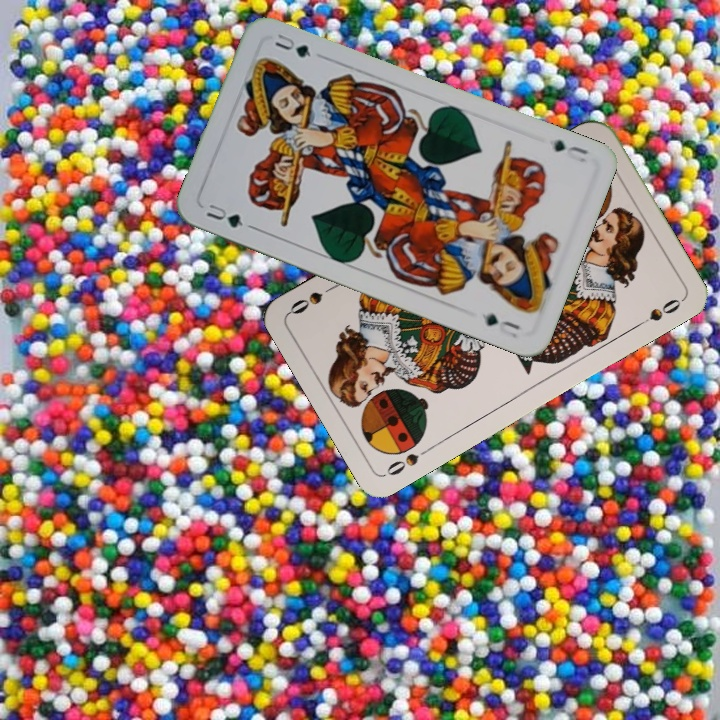GU: (202, 199, 246, 231), (549, 135, 592, 165)
SO: (382, 449, 422, 479)
